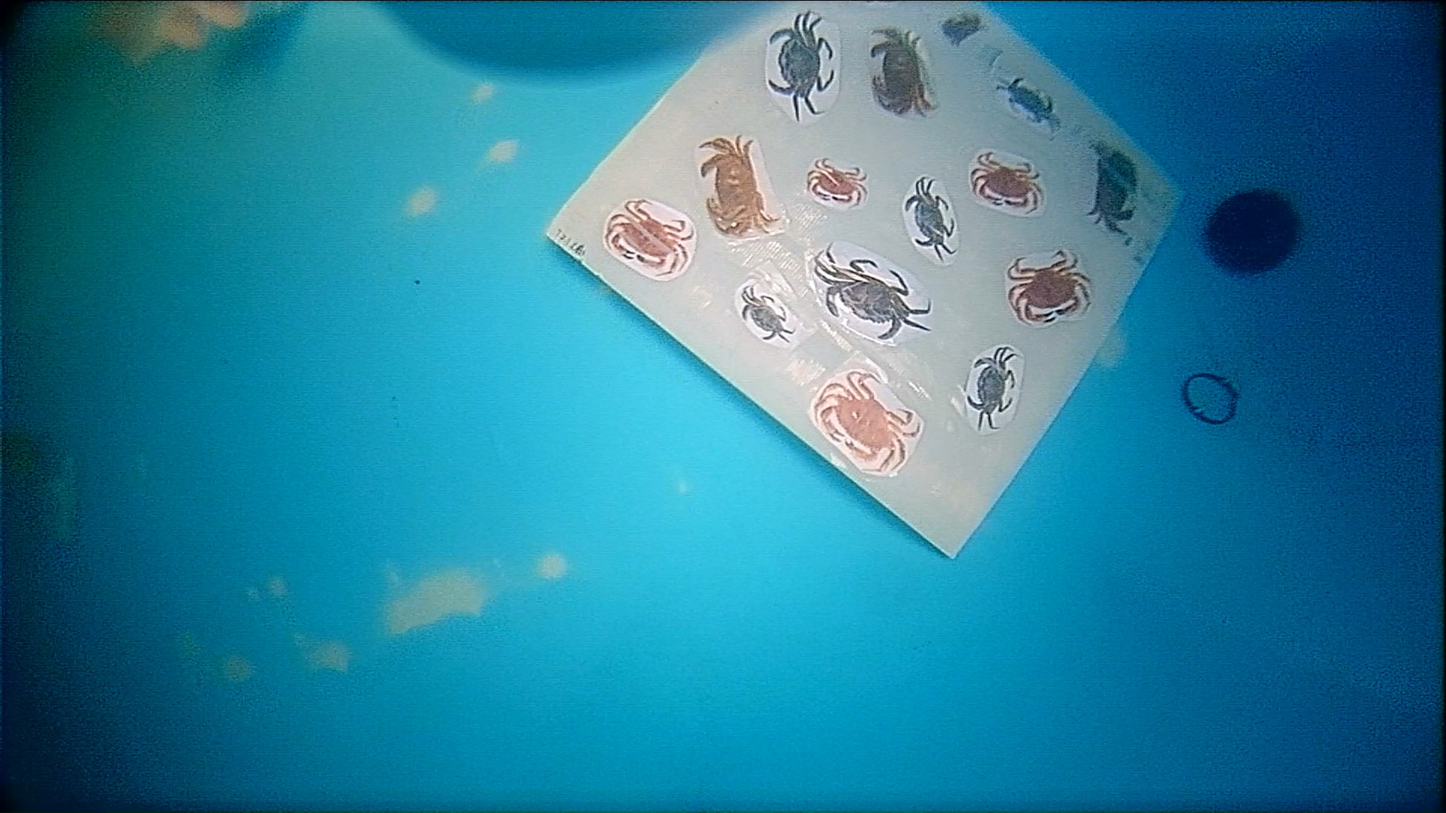GreenCrab: (813, 247, 931, 341), (770, 12, 834, 121), (966, 346, 1017, 428), (741, 283, 793, 340)
